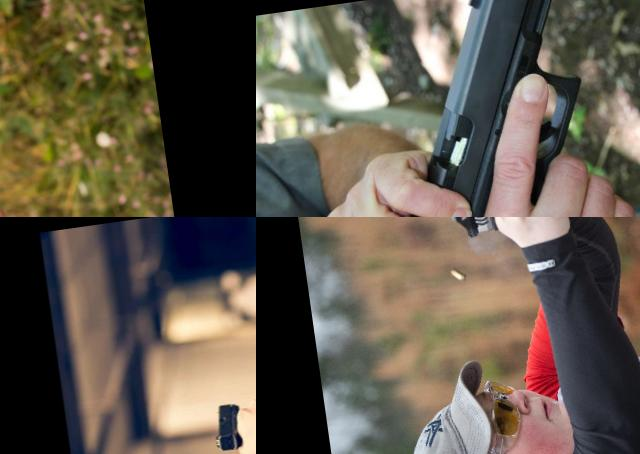handgun: (369, 0, 613, 217), (431, 217, 597, 293), (0, 89, 47, 217), (207, 395, 256, 452)
